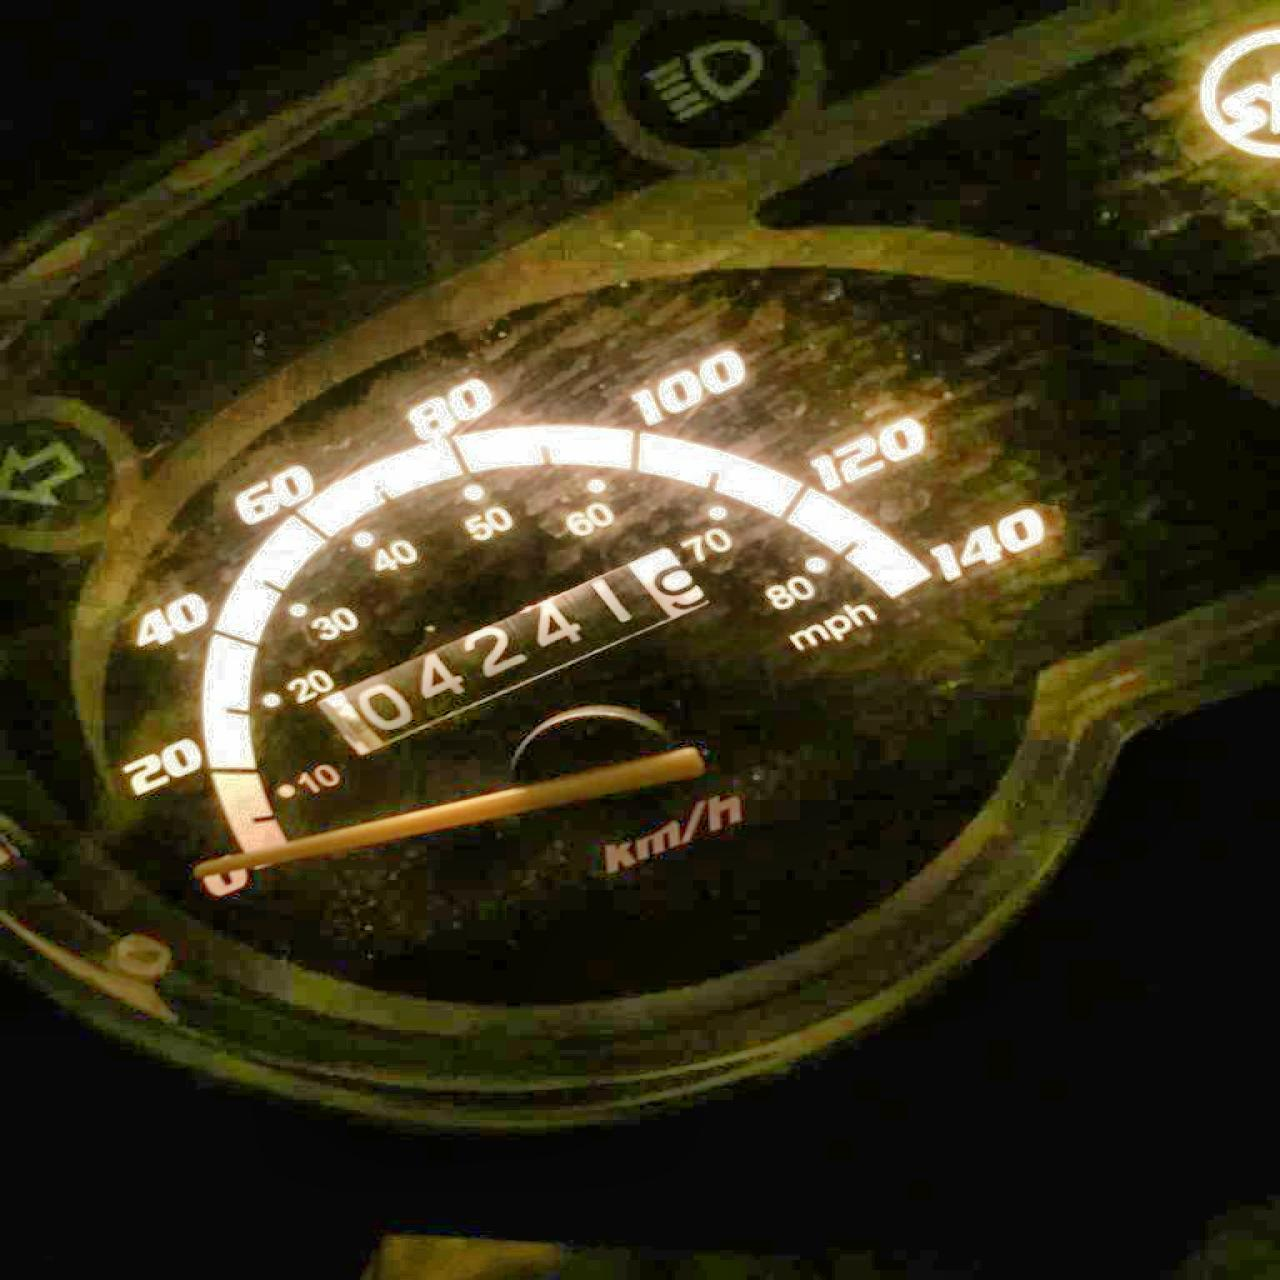0: (355, 682, 414, 730), (387, 538, 416, 564), (305, 667, 335, 692), (328, 606, 360, 629)
1: (588, 577, 632, 621)
2: (462, 624, 526, 676)
3: (308, 617, 340, 640)
4: (533, 601, 581, 647), (418, 651, 463, 697), (372, 546, 399, 572)
7: (680, 533, 704, 561)
9: (652, 564, 707, 610)
odometer: (313, 545, 714, 757)
